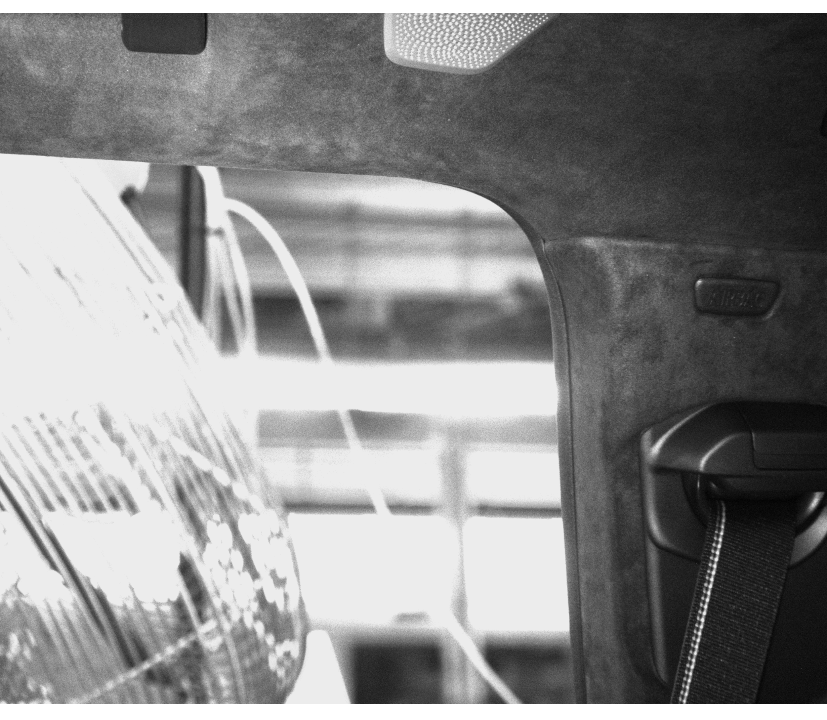camerafault: (679, 262, 785, 335)
